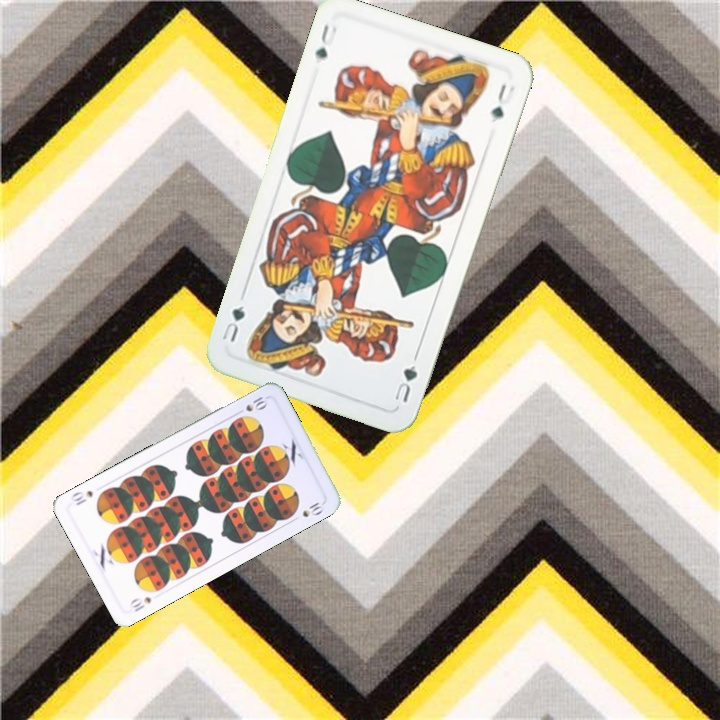GU: (390, 361, 420, 405), (311, 19, 340, 62)
S10: (232, 392, 270, 417), (126, 593, 154, 615)
